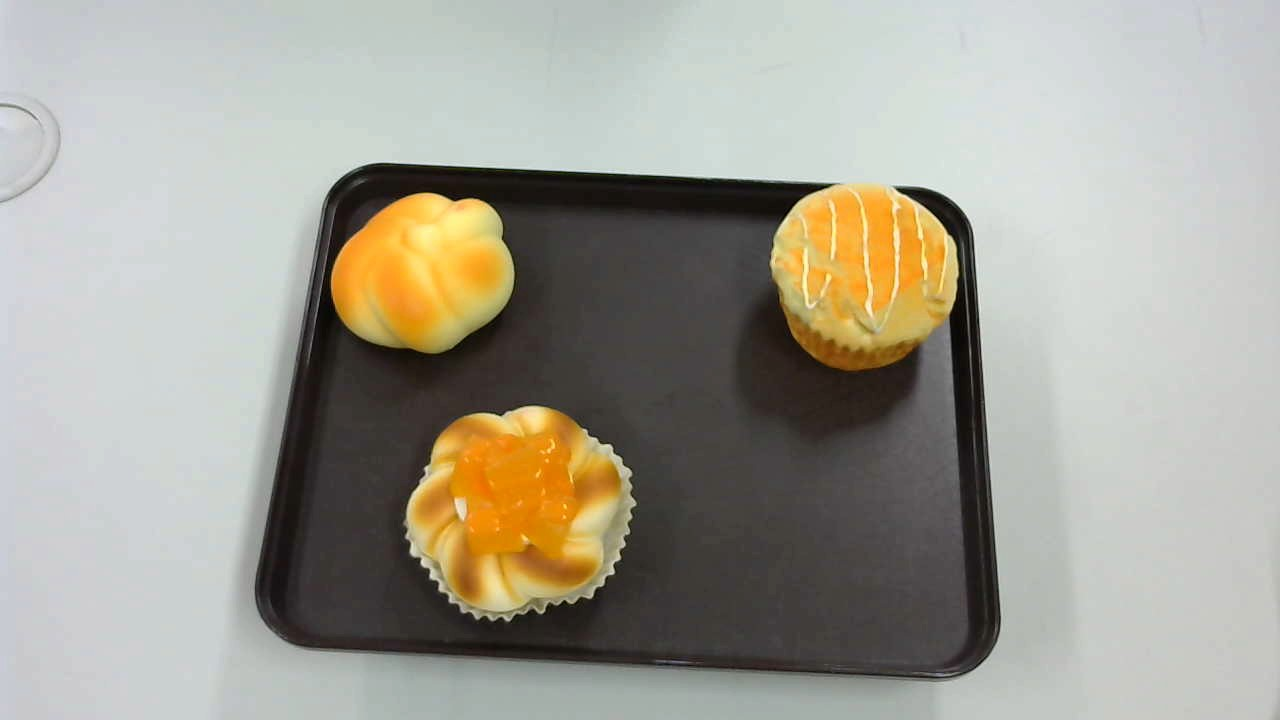croissant: (332, 191, 514, 354)
cupcake: (770, 181, 958, 372)
mango tart: (405, 405, 637, 622)
